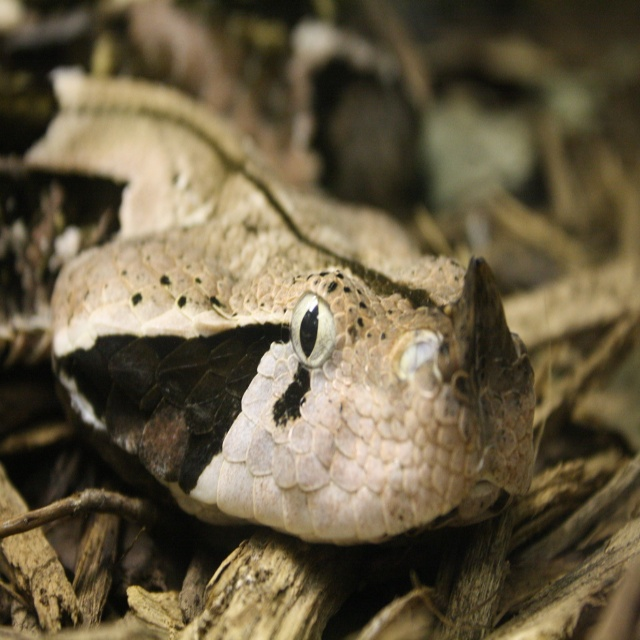Snake: (7, 84, 568, 621)
